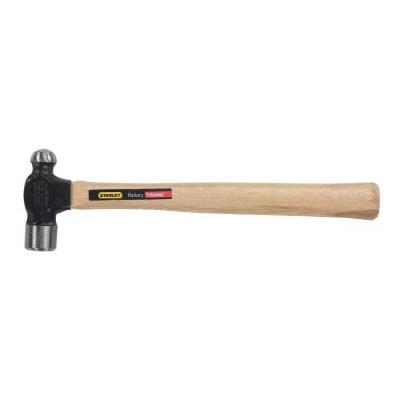hammer: (18, 145, 381, 254)
